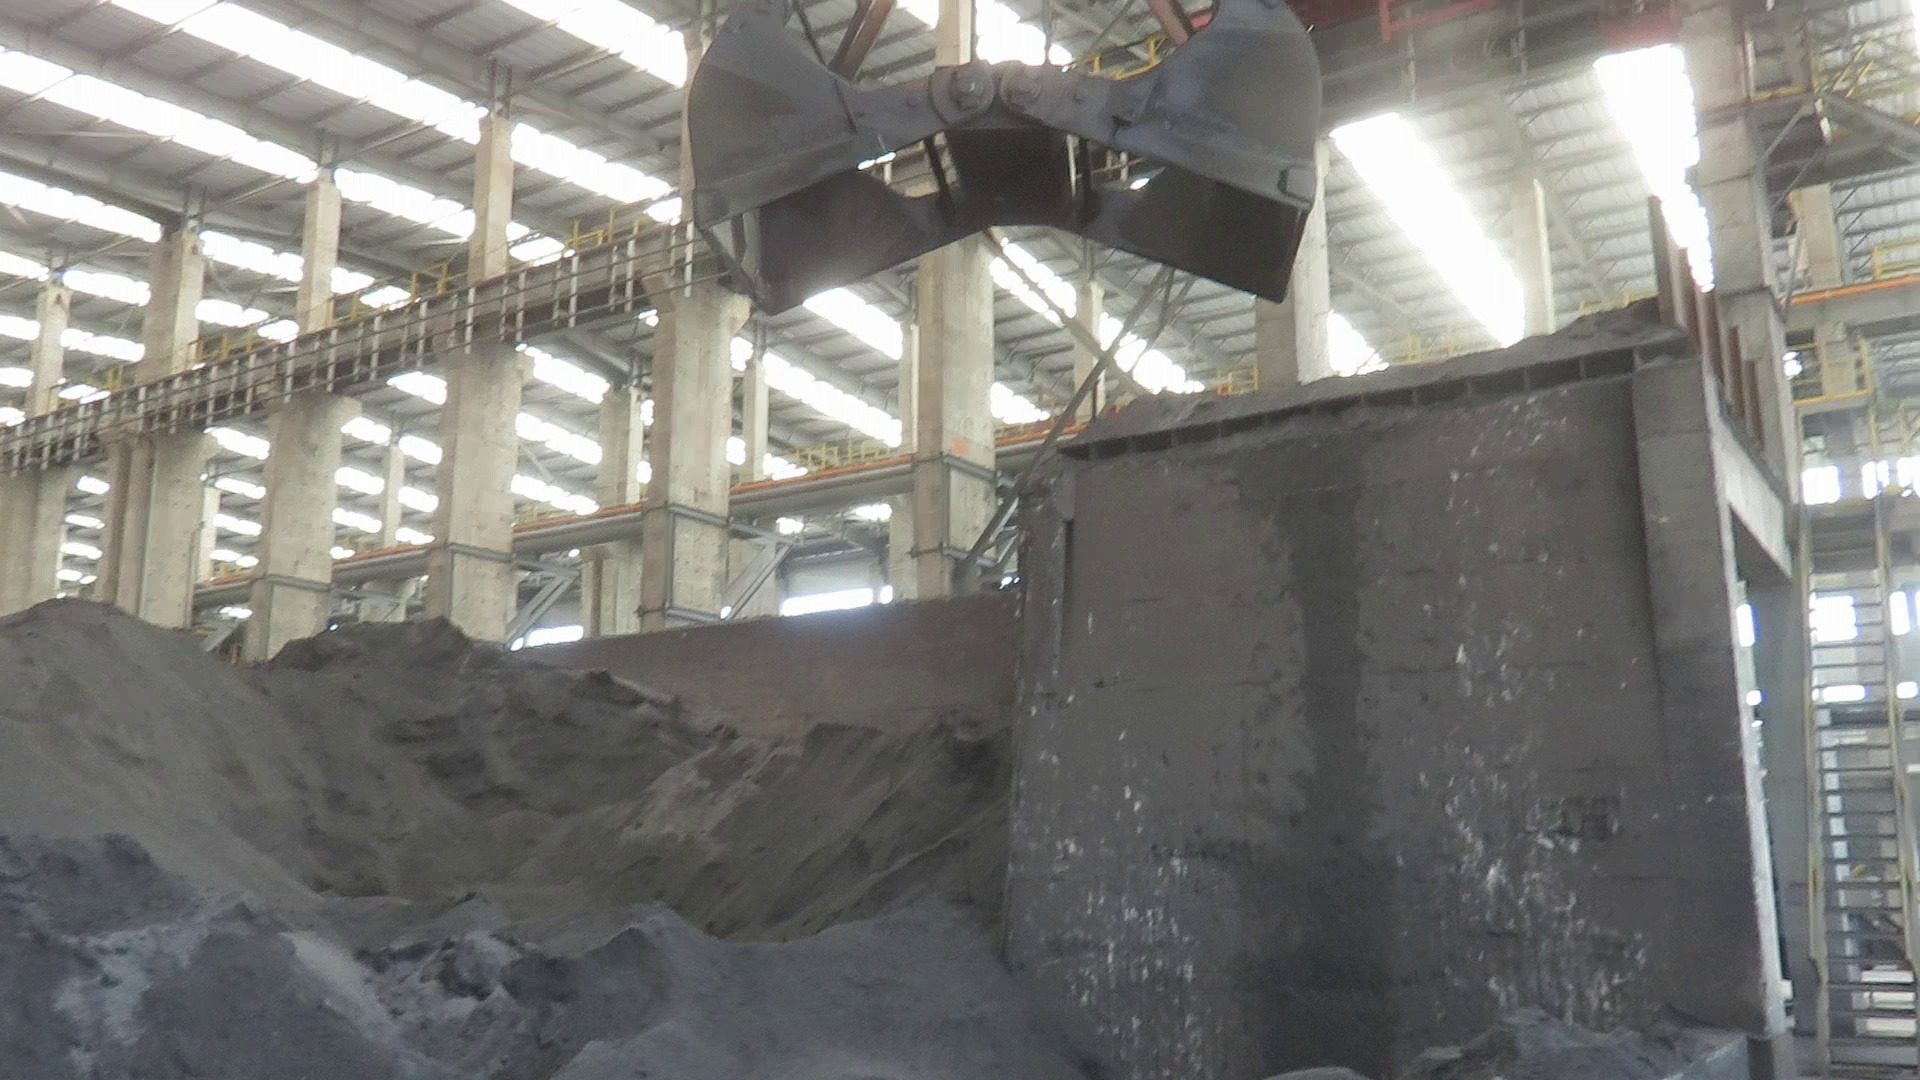grab: (673, 0, 1337, 315)
